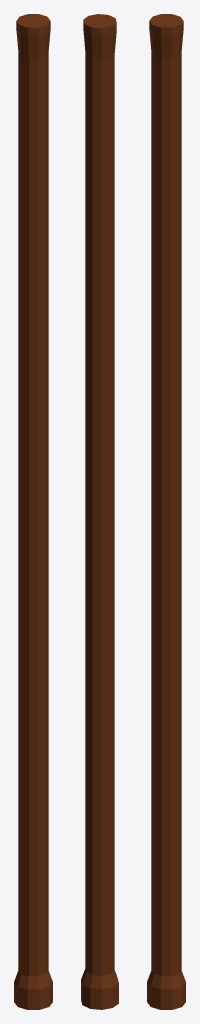
File: Stick.fbx
3 renders of one model, left to right at view 1: azimuth 90°, elevation 25°; view 2: azimuth 150°, elevation 25°; view 3: azimuth 270°, elevation 25°, orthographic.
Visible parts, largest first — view 1: Stick; view 2: Stick; view 3: Stick.
Part boxes in pixels (x1,y1,x2,y2): Stick: (14,14,52,1009); Stick: (81,14,118,1009); Stick: (147,14,185,1009).
Bounding box in the file's own units: 55.12 × 1618 × 57.95.
